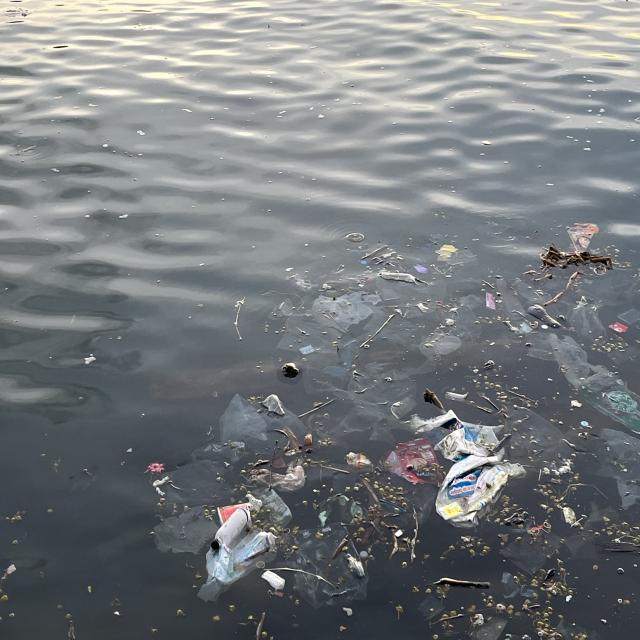plastic: (209, 508, 248, 549)
plastic bottle: (410, 409, 524, 529), (316, 365, 416, 440), (283, 528, 369, 607), (566, 425, 640, 510), (216, 390, 306, 453), (199, 529, 276, 600), (501, 405, 571, 473), (524, 331, 604, 388), (579, 373, 640, 432), (346, 308, 418, 357), (166, 458, 236, 504), (153, 507, 217, 557), (498, 525, 562, 575), (378, 272, 446, 317), (383, 439, 443, 488), (565, 507, 613, 563), (312, 289, 378, 329), (408, 327, 461, 376), (278, 318, 342, 358), (566, 286, 607, 342), (441, 304, 484, 350), (248, 462, 308, 489), (494, 274, 527, 319), (253, 489, 292, 527), (552, 618, 603, 640), (568, 220, 600, 252), (513, 276, 550, 303), (610, 343, 640, 368), (418, 597, 444, 620), (446, 250, 480, 266), (345, 452, 373, 471), (618, 308, 640, 324)
unknow: (362, 242, 402, 266), (147, 461, 169, 499), (527, 304, 561, 328), (437, 244, 457, 261), (608, 321, 628, 334), (347, 232, 364, 241)
